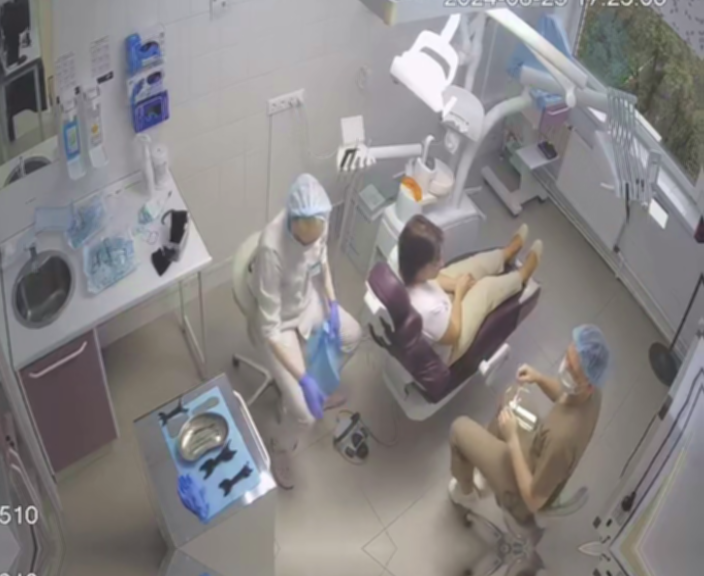Patient: (362, 209, 543, 425)
